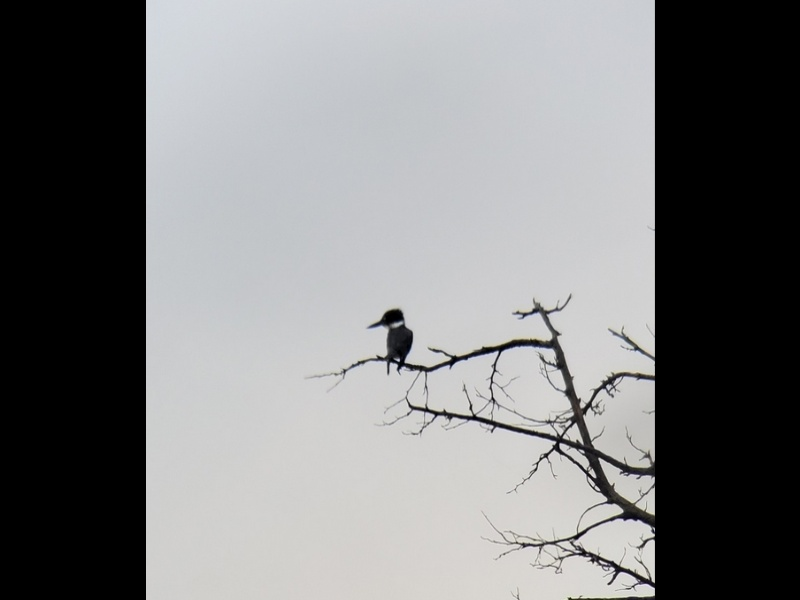kingfisher: (367, 307, 415, 372)
